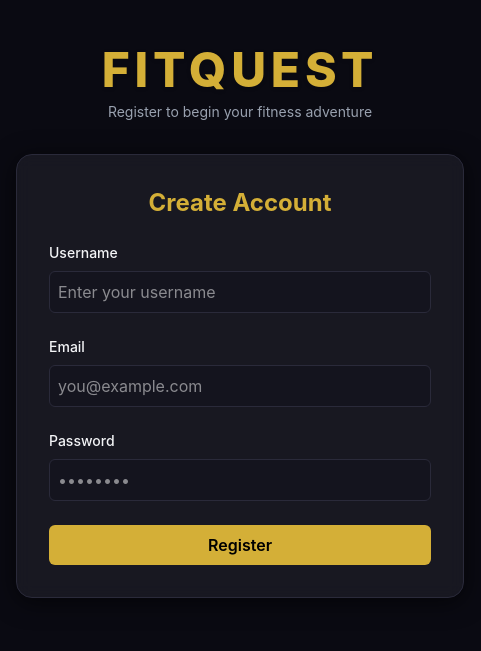
RegistrationPage › should show validation errors for empty field
Step 1. Click the button "Register" → (240, 545), box [49,525,431,565]
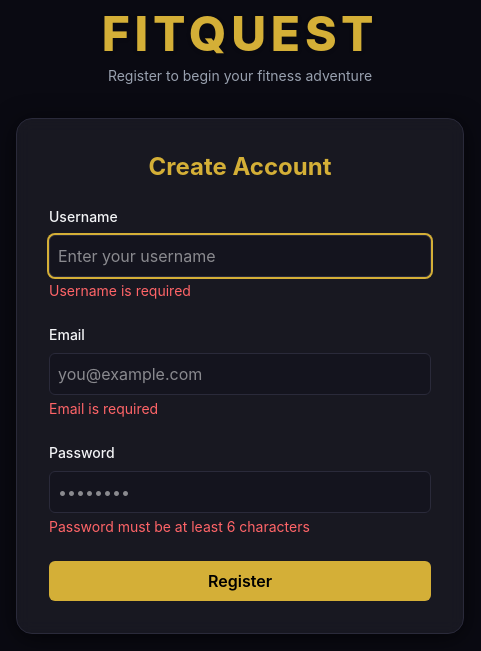
Check: the text "Username is required" is shown, box [49,282,191,299]
Check: the text "Email is required" is shown, box [49,400,158,417]
Check: the text "Password must be at least 6 characters" is shown, box [49,518,310,535]
